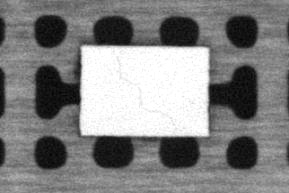DIE_CRACK: (115, 51, 177, 129)
